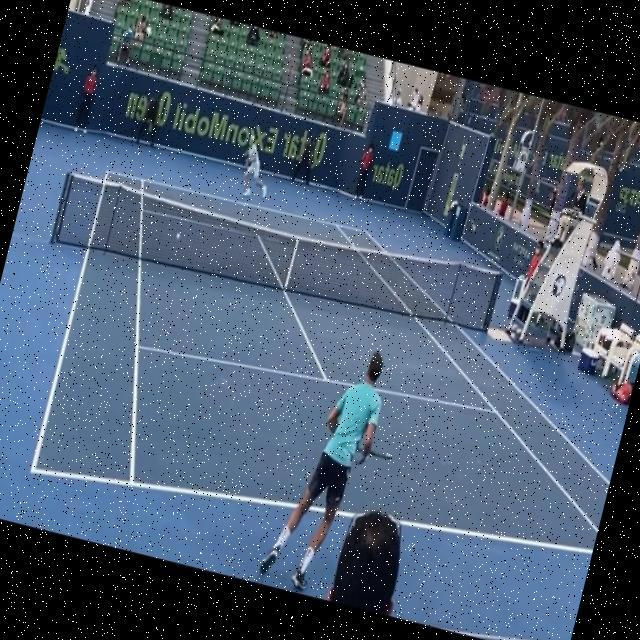court: (30, 164, 640, 610)
net: (43, 157, 506, 358)
player: (255, 333, 416, 602)
